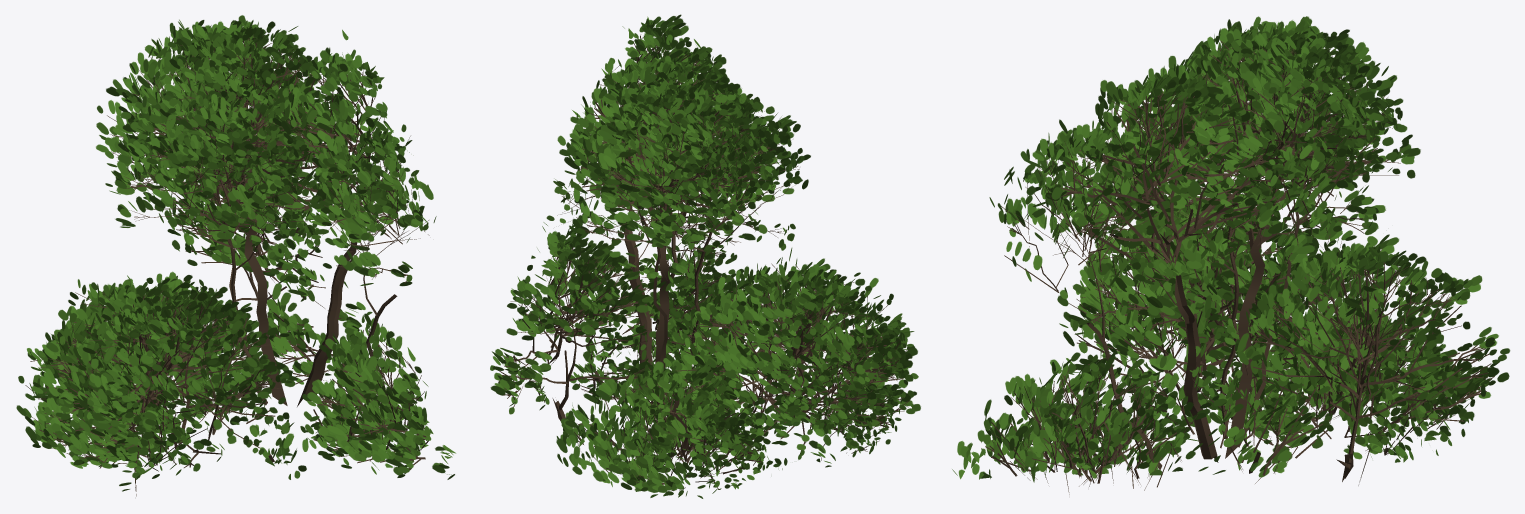
3 views of the same model, side by side, from view 1: azimuth 30°, elevation 25°; view 2: azimuth 150°, elevation 25°; view 3: azimuth 270°, elevation 25° (orthographic). The views are drawn at different scales.
Parts seen in each view (by area): view 1: oak 01.001_trunk_Mat.001_0.207; view 2: oak 01.001_trunk_Mat.001_0.207; view 3: oak 01.001_trunk_Mat.001_0.207.
Boxes of the visible parts, bbox=[...] form: oak 01.001_trunk_Mat.001_0.207: bbox=[16, 15, 456, 496]; oak 01.001_trunk_Mat.001_0.207: bbox=[490, 14, 920, 498]; oak 01.001_trunk_Mat.001_0.207: bbox=[952, 16, 1510, 494].
Bounding box in the file's own units: 3.13 × 3.54 × 4.13.
2 materials, 1 textured.
